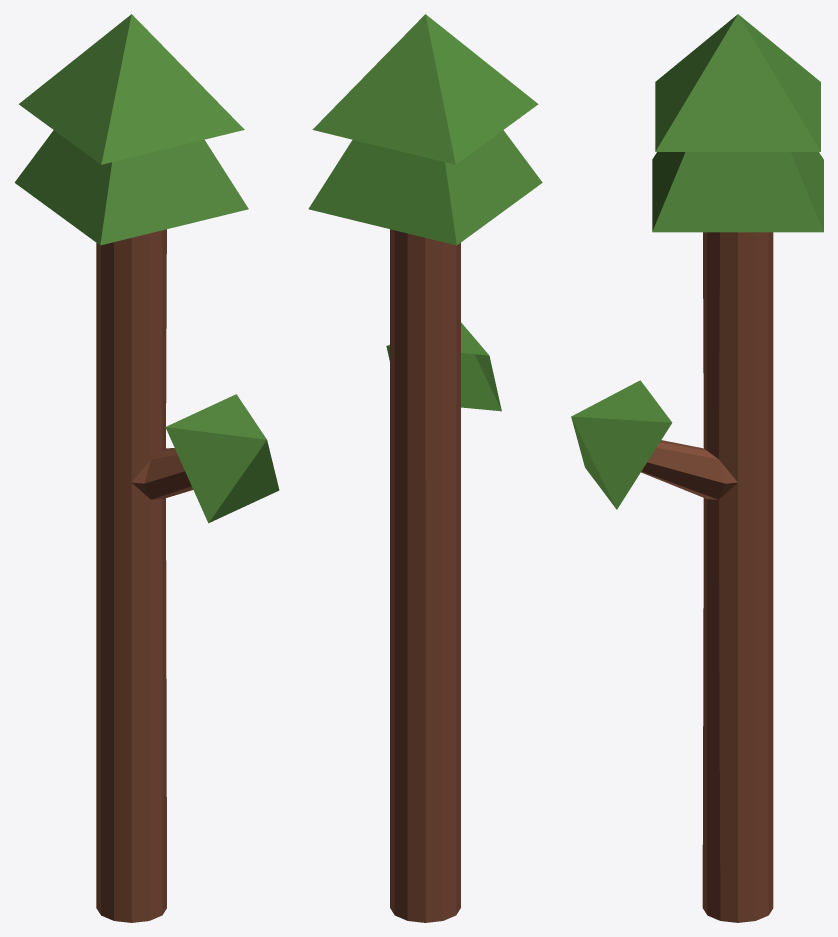
Rendered from Tree_25_summer_vc.fbx.
The picture shows the model from 3 angles, left to right: view 1: azimuth 30°, elevation 25°; view 2: azimuth 150°, elevation 25°; view 3: azimuth 270°, elevation 25°; orthographic projection.
Parts seen in each view (by area): view 1: Tree_25_summer_vc; view 2: Tree_25_summer_vc; view 3: Tree_25_summer_vc.
Boxes of the visible parts, x1,y1,x2,y2 form: Tree_25_summer_vc: (14, 14, 279, 922); Tree_25_summer_vc: (308, 14, 542, 922); Tree_25_summer_vc: (571, 14, 823, 922).
Bounding box in the file's own units: 1.52 × 8.02 × 2.06.
